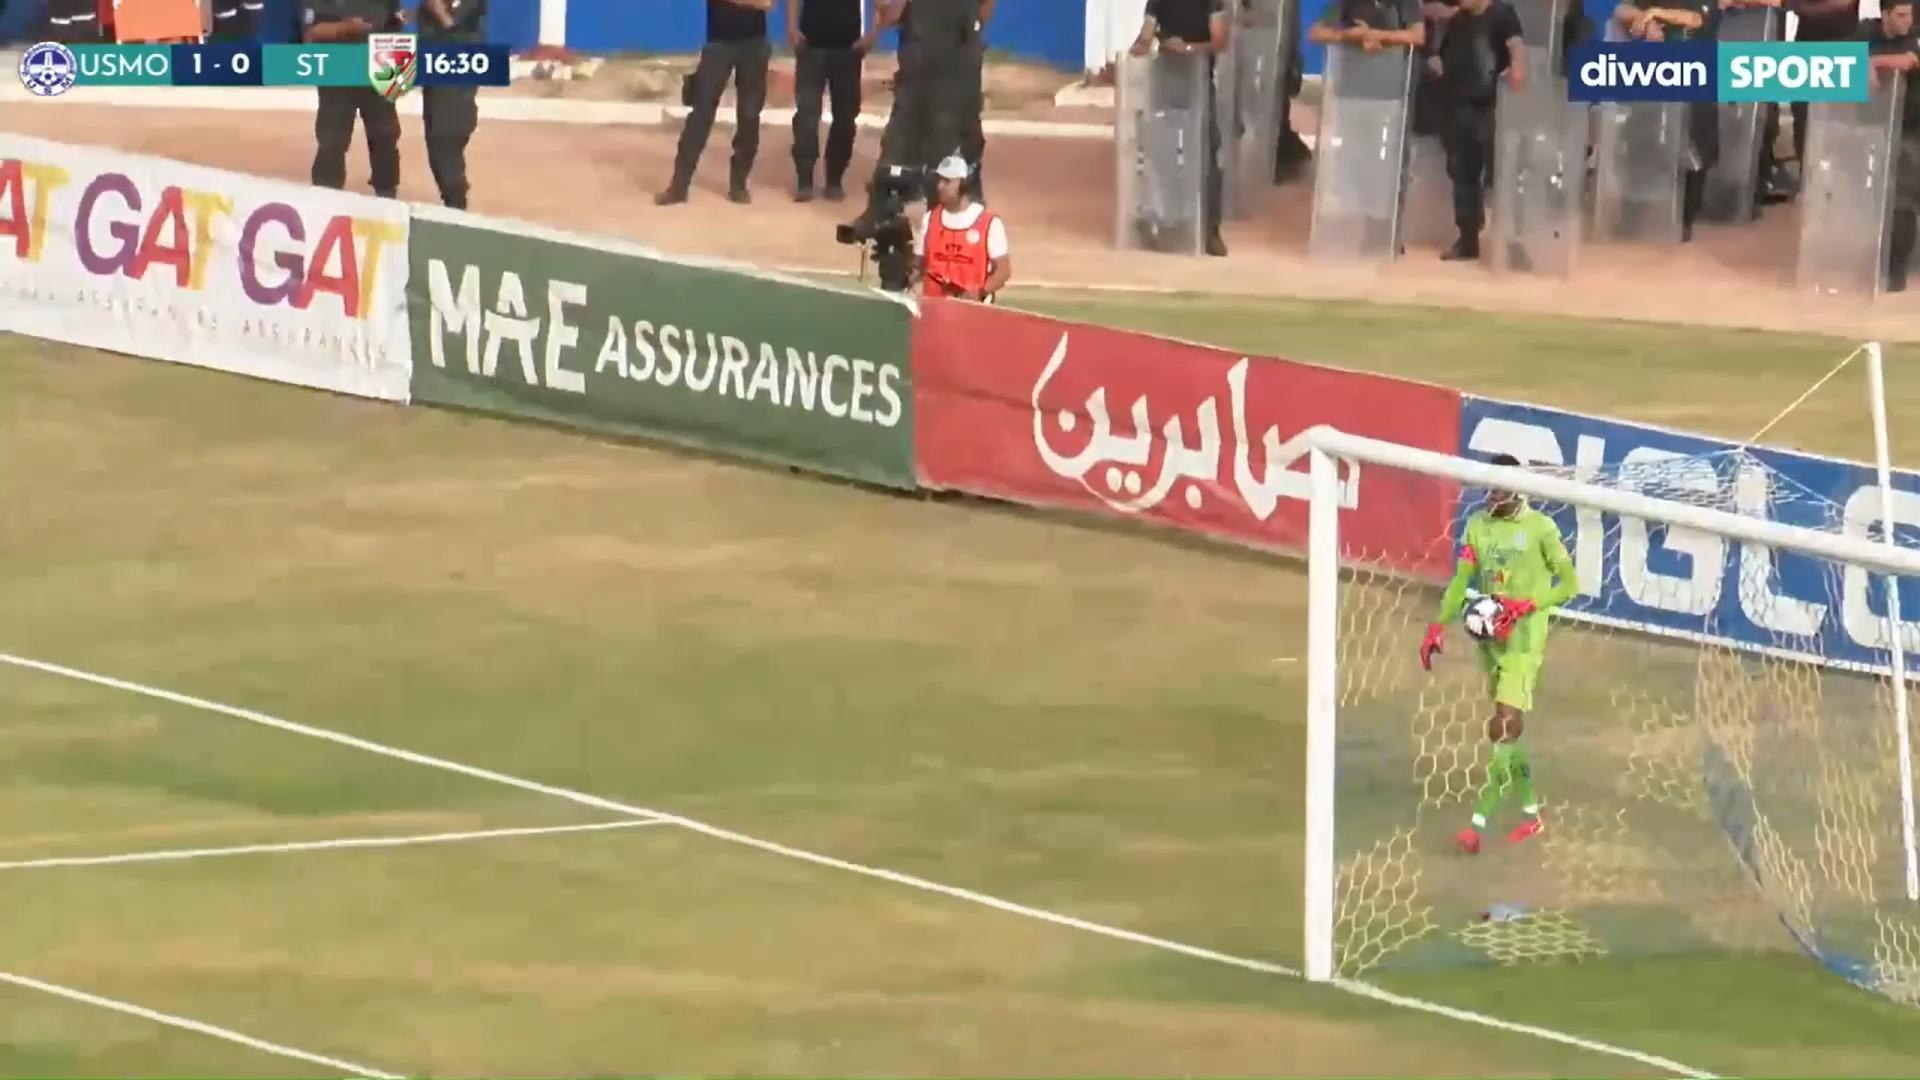ball: (1465, 580, 1520, 661)
goalkeeper: (1408, 407, 1582, 868)
